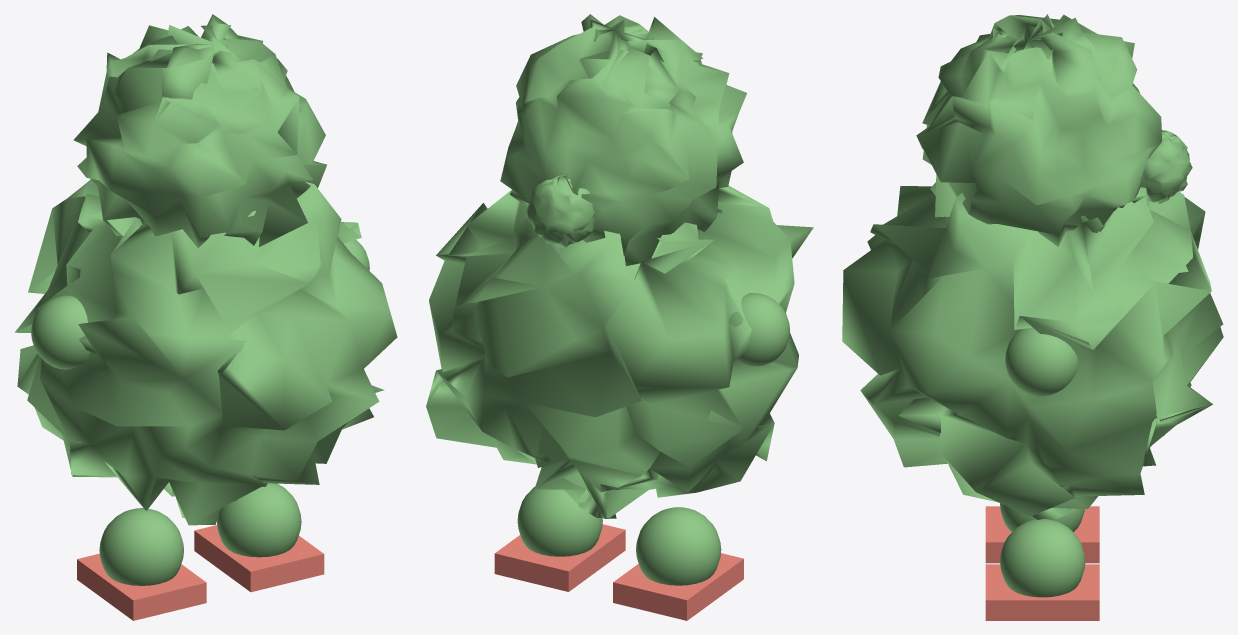
Rendered from clay_cactus_elephant.glb.
3 views of the same model, side by side, from view 1: azimuth 30°, elevation 25°; view 2: azimuth 150°, elevation 25°; view 3: azimuth 270°, elevation 25° (orthographic).
Parts seen in each view (by area): view 1: sandals2; view 2: sandals2; view 3: sandals2.
Boxes of the visible parts, x1=… form: sandals2: x1=15, y1=14, x2=397, y2=620; sandals2: x1=426, y1=14, x2=813, y2=620; sandals2: x1=842, y1=14, x2=1223, y2=620.
Bounding box in the file's own units: 1.35 × 2.13 × 1.34.
